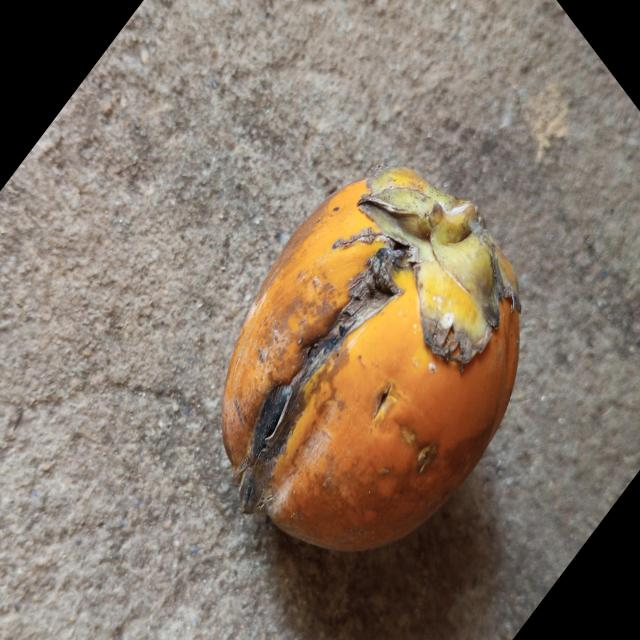damaged: (222, 167, 521, 550)
